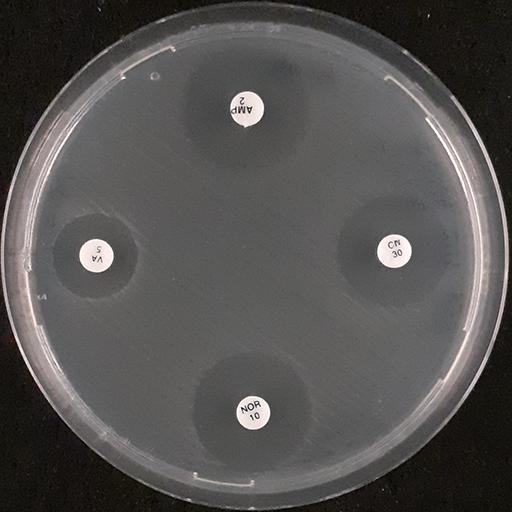disc: (228, 90, 265, 127), (78, 237, 115, 274), (376, 232, 413, 269), (235, 394, 272, 431)
